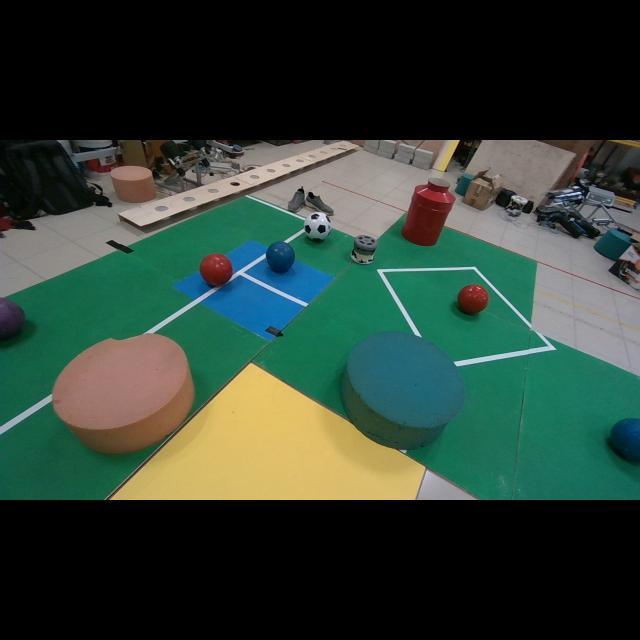B: (611, 419, 640, 462), (266, 241, 295, 272)
P: (0, 298, 25, 339)
R: (199, 254, 232, 286), (458, 284, 489, 314)
